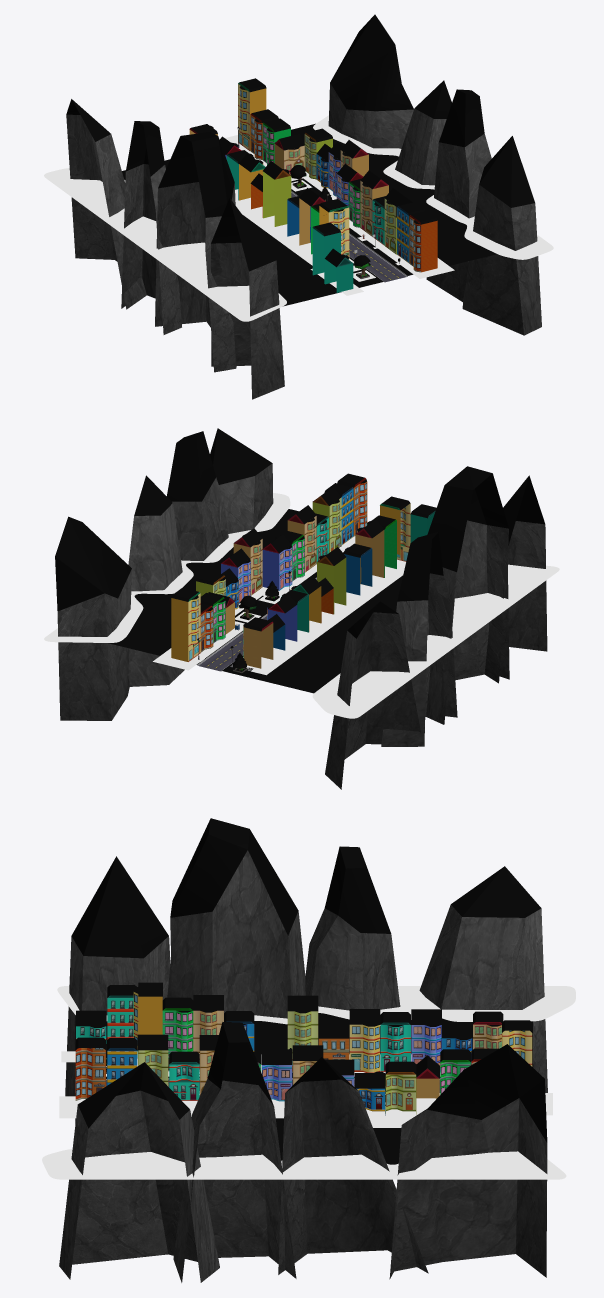
File: citywinter_01.fbx
The picture shows the model from 3 angles, top to bottom: view 1: azimuth 30°, elevation 25°; view 2: azimuth 150°, elevation 25°; view 3: azimuth 270°, elevation 25°; orthographic projection. The views are drawn at different scales.
Visible parts, largest first — view 1: City_01; view 2: City_01; view 3: City_01.
Boxes of the visible parts, bbox=[...] form: City_01: bbox=[44, 14, 553, 399]; City_01: bbox=[44, 428, 559, 789]; City_01: bbox=[42, 818, 575, 1282].
Bounding box in the file's own units: 22617 × 13384 × 25170.
